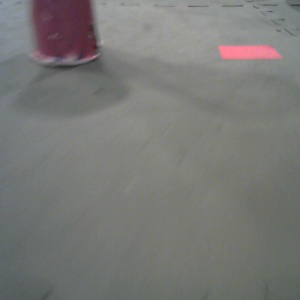middle: (26, 1, 106, 69)
